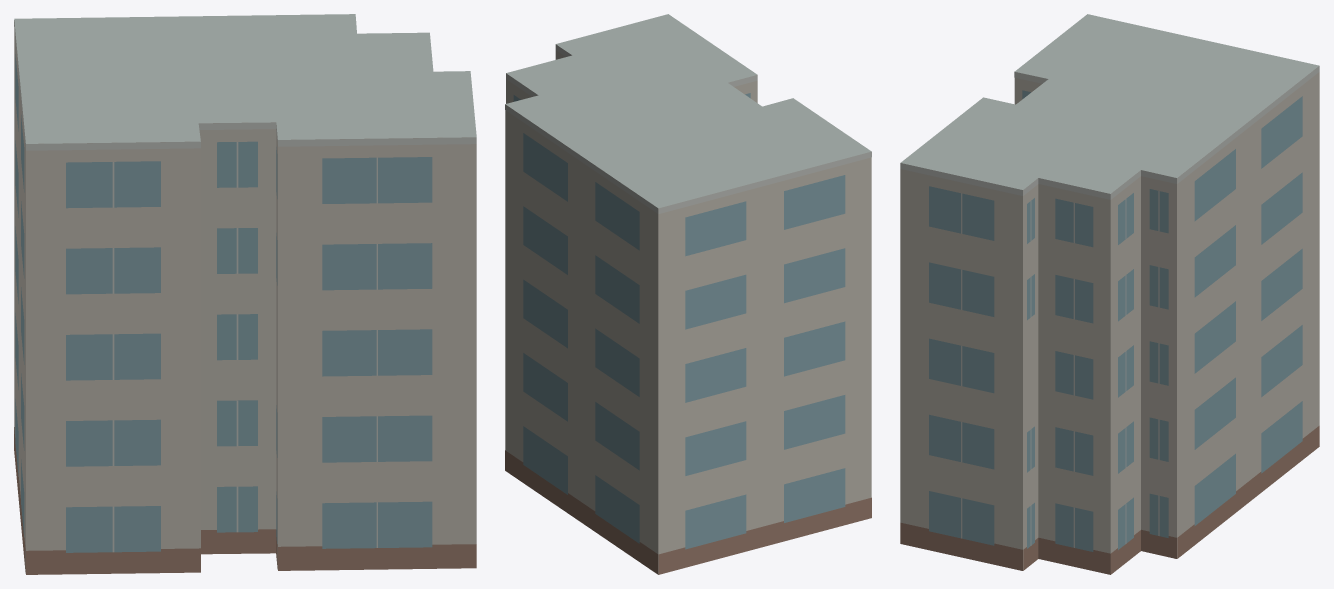
File: survey-upis-32654347.glb
The picture shows the model from 3 angles, left to right: view 1: azimuth 30°, elevation 25°; view 2: azimuth 150°, elevation 25°; view 3: azimuth 270°, elevation 25°; orthographic projection. The views are drawn at different scales.
Parts seen in each view (by area): view 1: survey-upis-32654347.tmp; view 2: survey-upis-32654347.tmp; view 3: survey-upis-32654347.tmp.
Boxes of the visible parts, x1,y1,x2,y2 form: survey-upis-32654347.tmp: [14, 14, 476, 574]; survey-upis-32654347.tmp: [505, 14, 871, 574]; survey-upis-32654347.tmp: [900, 14, 1319, 574].
Bounding box in the file's own units: 15.61 × 15.4 × 15.37.
